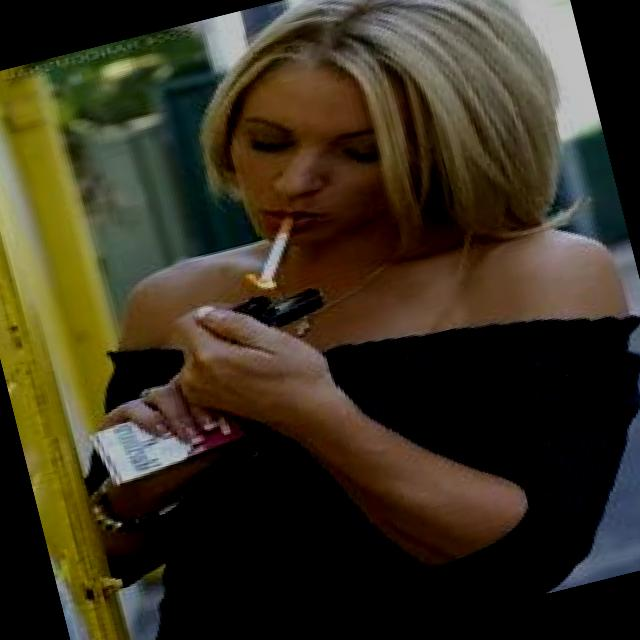smoke: (236, 206, 316, 293)
